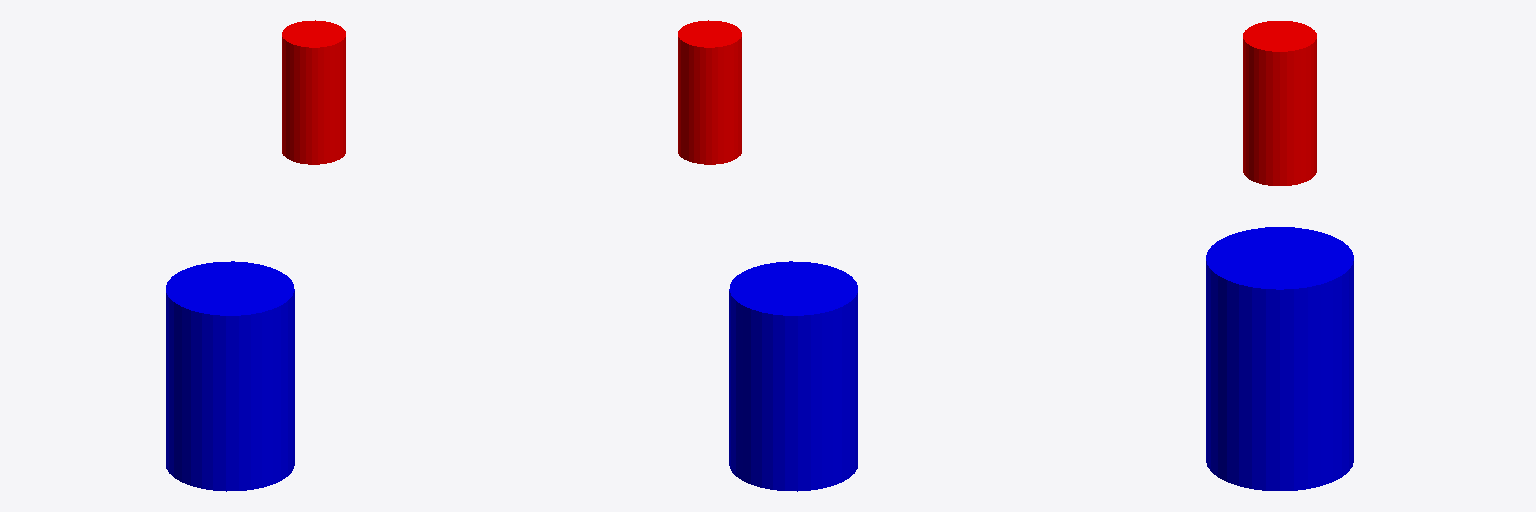
URDF robot description (two_link_robot):
<?xml version="1.0"?>
<robot name="two_link_robot">

  
  <link name="base_link">
    <visual>
      <origin xyz="0 0 0.3" rpy="0 0 0"/> 
      <geometry>
        <cylinder length="0.6" radius="0.2"/>
      </geometry>
      <material name="blue">
        <color rgba="0 0 1 1"/>
      </material>
    </visual>
  </link>

  
  <link name="second_link">
    <visual>
      <origin xyz="0.3 0 0.6" rpy="0 0 0"/> 
      <geometry>
        <cylinder length="0.4" radius="0.1"/>
      </geometry>
      <material name="red">
        <color rgba="1 0 0 1"/>
      </material>
    </visual>
  </link>


  <joint name="joint1" type="revolute">
    <parent link="base_link"/>
    <child link="second_link"/>
    <origin xyz="0 0 0.6" rpy="0 0 0"/> 
    <axis xyz="0 0 1"/> 
    <limit lower="-1.57" upper="1.57" effort="1000" velocity="1.0"/>
  </joint>

</robot>

--- Render facts (derived) ---
3 views of the same robot in one strip: view 1: azimuth 30°, elevation 25°; view 2: azimuth 150°, elevation 25°; view 3: azimuth 270°, elevation 25° (orthographic).
Robot: two_link_robot — 2 links, 1 joints (1 revolute); root link base_link; default pose: all joints at 0.
Links seen in each view (by area): view 1: base_link, second_link; view 2: base_link, second_link; view 3: base_link, second_link.
Link boxes in pixels (x1=…): base_link: x1=166, y1=261, x2=294, y2=491; second_link: x1=282, y1=20, x2=345, y2=164; base_link: x1=729, y1=261, x2=857, y2=491; second_link: x1=678, y1=20, x2=741, y2=164; base_link: x1=1206, y1=227, x2=1353, y2=490; second_link: x1=1243, y1=21, x2=1316, y2=185.
Bounding box of the posed robot: 0.6 × 0.4 × 1.4 m (x, y, z).
Geometry: primitives only (box / cylinder / sphere), no mesh files.